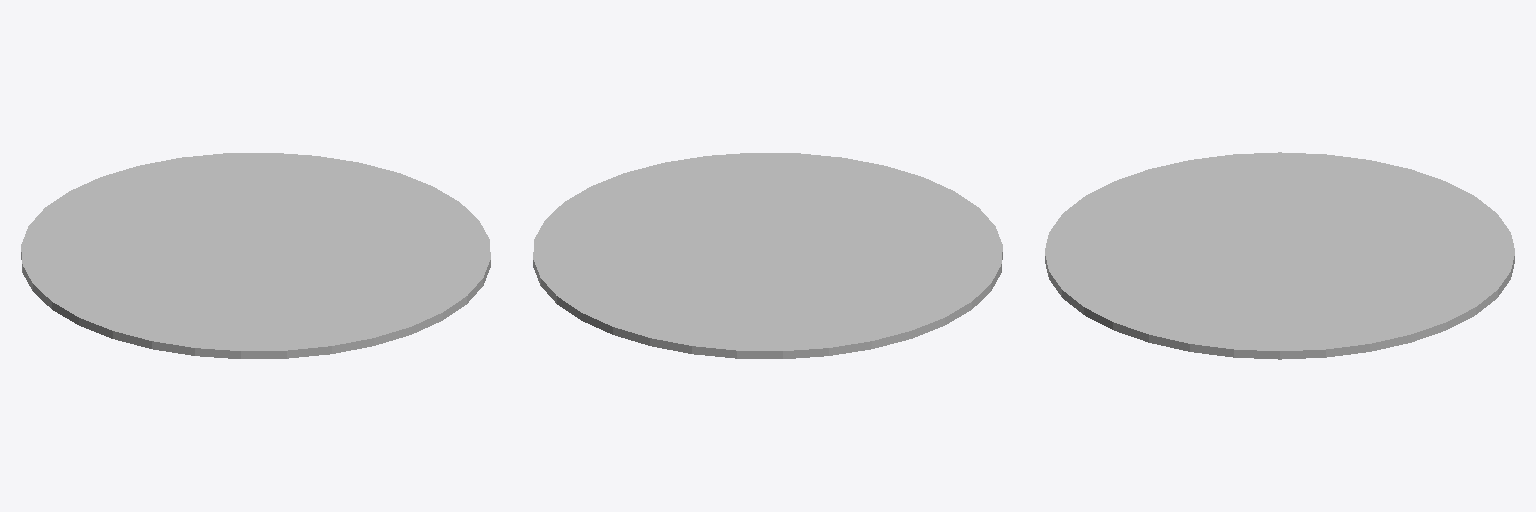
Rendered from Floor_1.obj.
3 renders of one model, left to right at view 1: azimuth 30°, elevation 25°; view 2: azimuth 150°, elevation 25°; view 3: azimuth 270°, elevation 25°, orthographic.
Visible parts, largest first — view 1: Floor_1_Cylinder.003; view 2: Floor_1_Cylinder.003; view 3: Floor_1_Cylinder.003.
Part boxes in pixels (bbox=[...]): Floor_1_Cylinder.003: bbox=[21, 153, 490, 358]; Floor_1_Cylinder.003: bbox=[533, 153, 1002, 358]; Floor_1_Cylinder.003: bbox=[1045, 152, 1514, 359].
Size of the model in its own units: 4.19 by 0.0795 by 4.19.